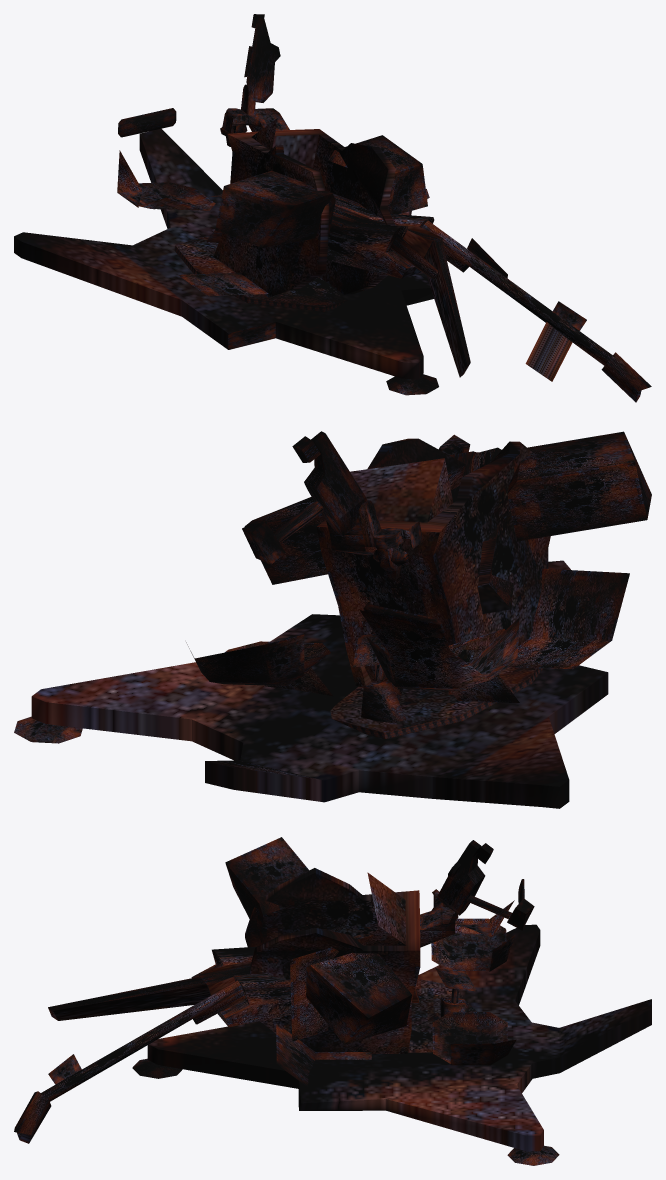
File: ZU_23_2_Damaged.glb
The picture shows the model from 3 angles, top to bottom: view 1: azimuth 30°, elevation 25°; view 2: azimuth 150°, elevation 25°; view 3: azimuth 270°, elevation 25°; orthographic projection. The views are drawn at different scales.
Visible parts, largest first — view 1: ZU_23_2_DAMAGED; view 2: ZU_23_2_DAMAGED; view 3: ZU_23_2_DAMAGED.
Boxes of the visible parts, left/top/right/bottom form: ZU_23_2_DAMAGED: left=14, top=14, right=651, bottom=402; ZU_23_2_DAMAGED: left=14, top=431, right=651, bottom=808; ZU_23_2_DAMAGED: left=14, top=837, right=651, bottom=1165.
Bounding box in the file's own units: 2.6 × 1.48 × 3.66.
1 material, 1 textured.
